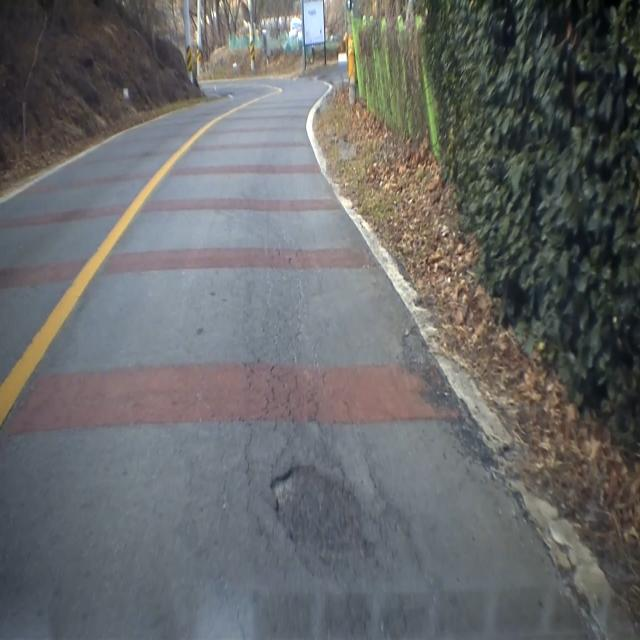Pothole: (266, 451, 380, 583)
